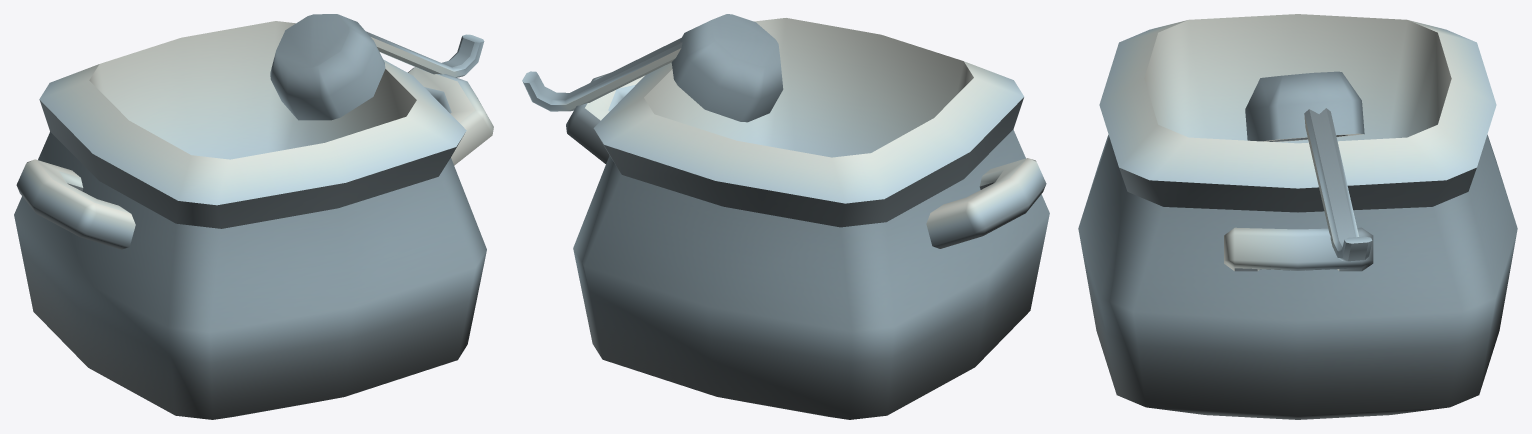
The model's file is pot_soup_laddle.fbx.
3 views of the same model, side by side, from view 1: azimuth 30°, elevation 25°; view 2: azimuth 150°, elevation 25°; view 3: azimuth 270°, elevation 25° (orthographic). The views are drawn at different scales.
Visible parts, largest first — view 1: pot_soup_laddle; view 2: pot_soup_laddle; view 3: pot_soup_laddle.
Boxes of the visible parts, x1,y1,x2,y2 form: pot_soup_laddle: [14, 14, 493, 419]; pot_soup_laddle: [522, 14, 1049, 419]; pot_soup_laddle: [1078, 14, 1517, 419].
Bounding box in the file's own units: 72.26 × 46.09 × 54.14.
